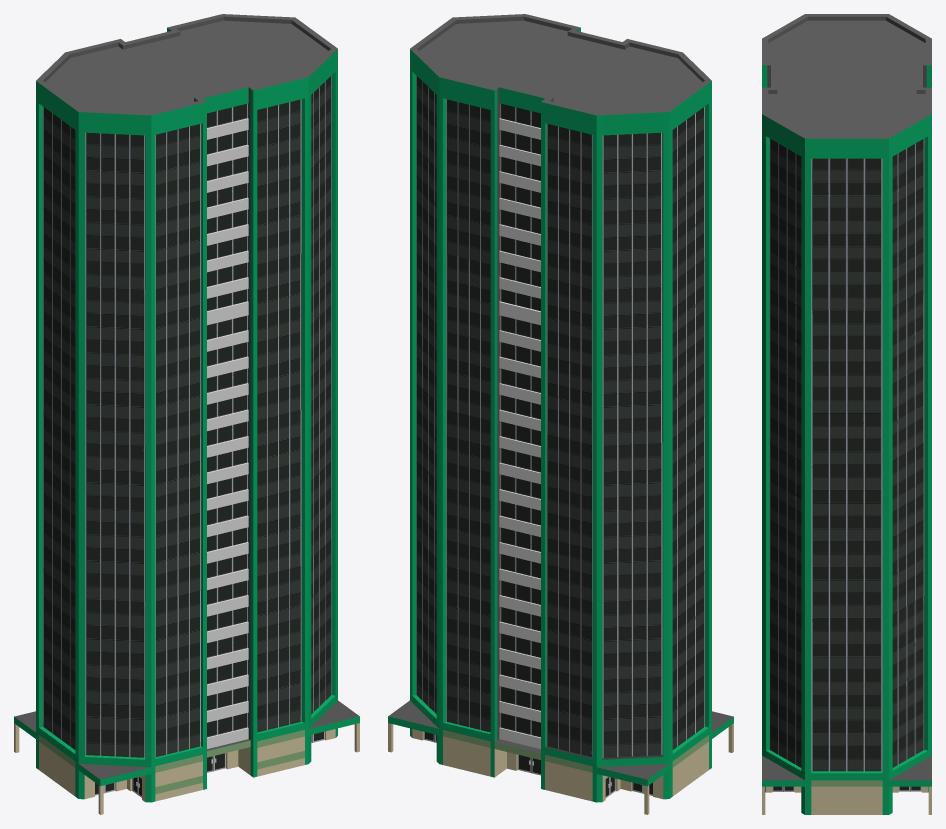
The picture shows the model from 3 angles, left to right: view 1: azimuth 30°, elevation 25°; view 2: azimuth 150°, elevation 25°; view 3: azimuth 270°, elevation 25°; orthographic projection.
Parts seen in each view (by area): view 1: BC-04; view 2: BC-04; view 3: BC-04.
Part boxes in pixels (x1,y1,x2,y2): BC-04: (14, 14, 359, 814); BC-04: (388, 14, 733, 814); BC-04: (762, 14, 931, 814).
Size of what is drawn, in the model's own units: 30.78 by 77.85 by 17.71.
